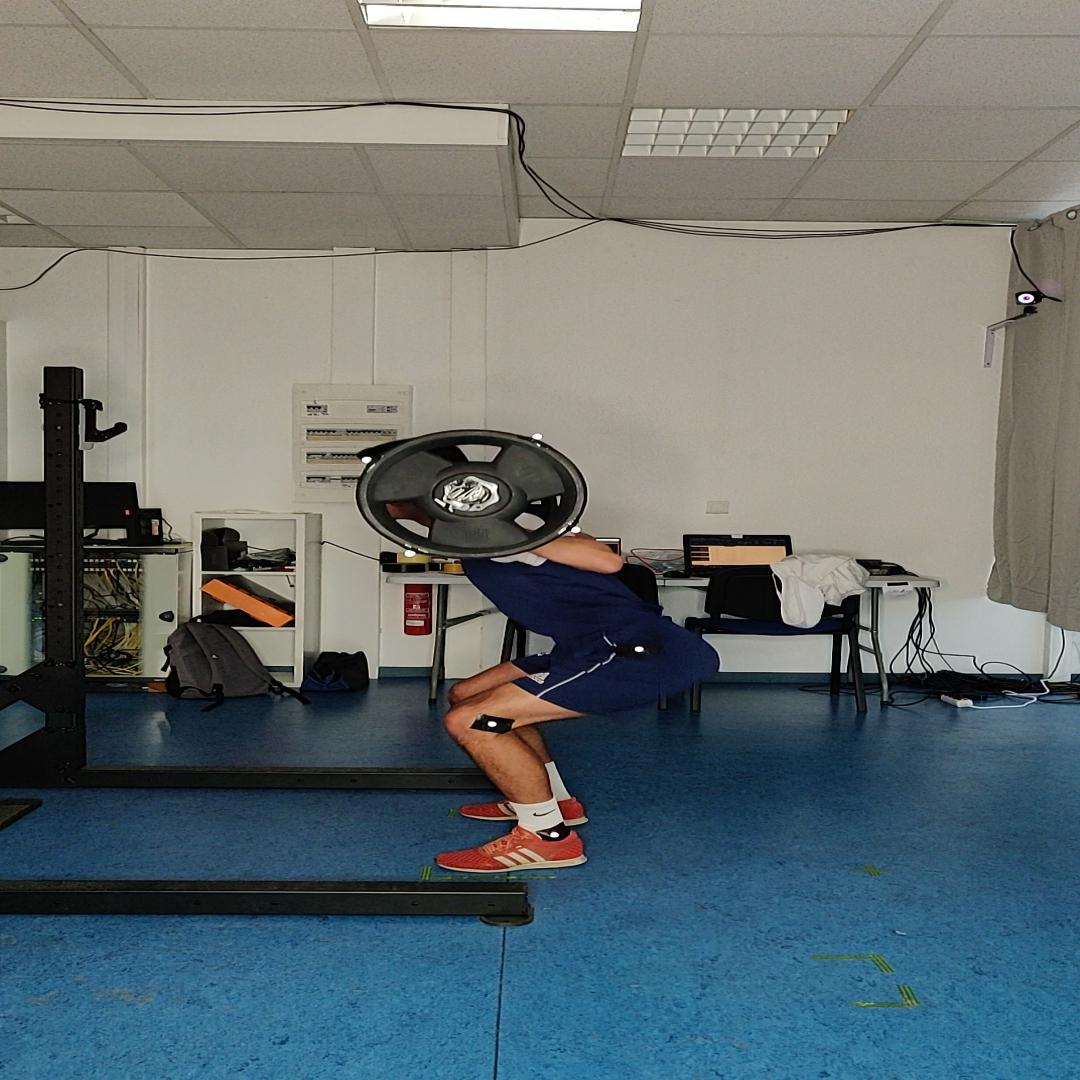Bar: (444, 479, 486, 502)
Barbell: (356, 429, 588, 560)
